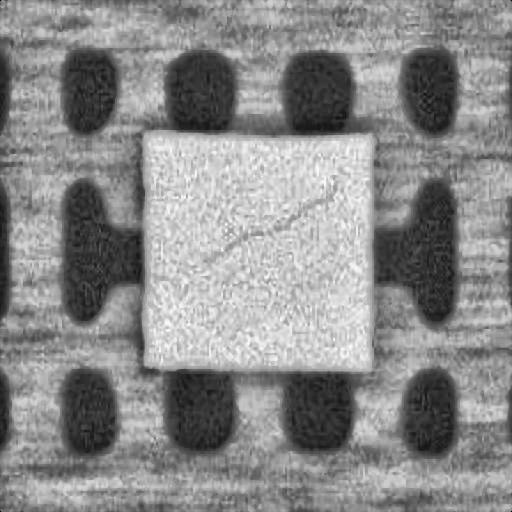DIE_CRACK: (204, 172, 338, 260)
